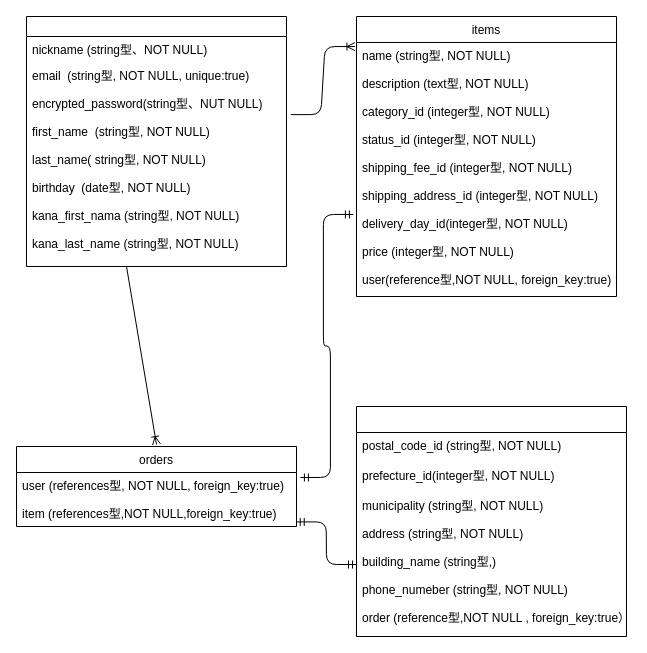
This 647x653 diagram has some shape labels left out. The shapes that lost their labels are listed below. From the top down, each one's box as (x1, y1, x2, y2) in pixels, then its label:
(26, 16, 286, 266): users
(356, 406, 626, 636): shippings
